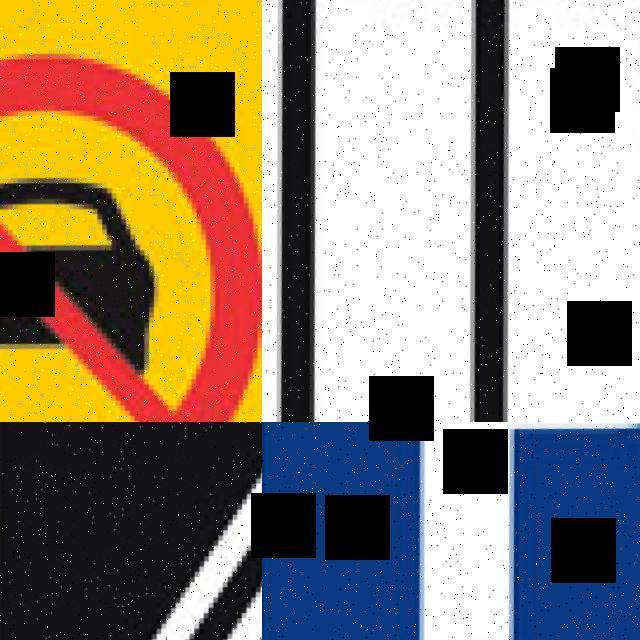101: (0, 422, 262, 640)
170: (262, 0, 640, 422)
86: (262, 422, 640, 640)
No entry for motor vehicles: (0, 0, 262, 422)
